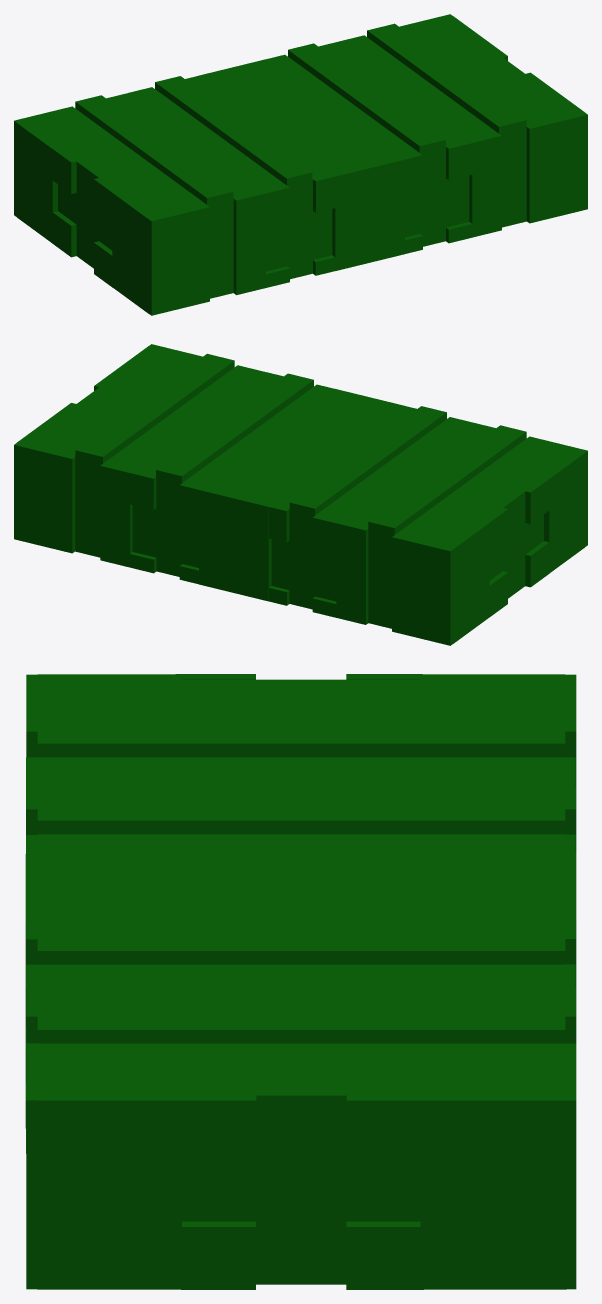
Rendered from Big ammo box.fbx.
3 views of the same model, one above another, from view 1: azimuth 30°, elevation 25°; view 2: azimuth 150°, elevation 25°; view 3: azimuth 270°, elevation 25° (orthographic). The views are drawn at different scales.
Parts seen in each view (by area): view 1: pasted__pCube24; view 2: pasted__pCube24; view 3: pasted__pCube24.
Part boxes in pixels (x1=…): pasted__pCube24: x1=14, y1=14, x2=587, y2=315; pasted__pCube24: x1=14, y1=344, x2=587, y2=645; pasted__pCube24: x1=25, y1=674, x2=576, y2=1289.
Size of the model in its own units: 2.1 by 0.4674 by 1.15.
